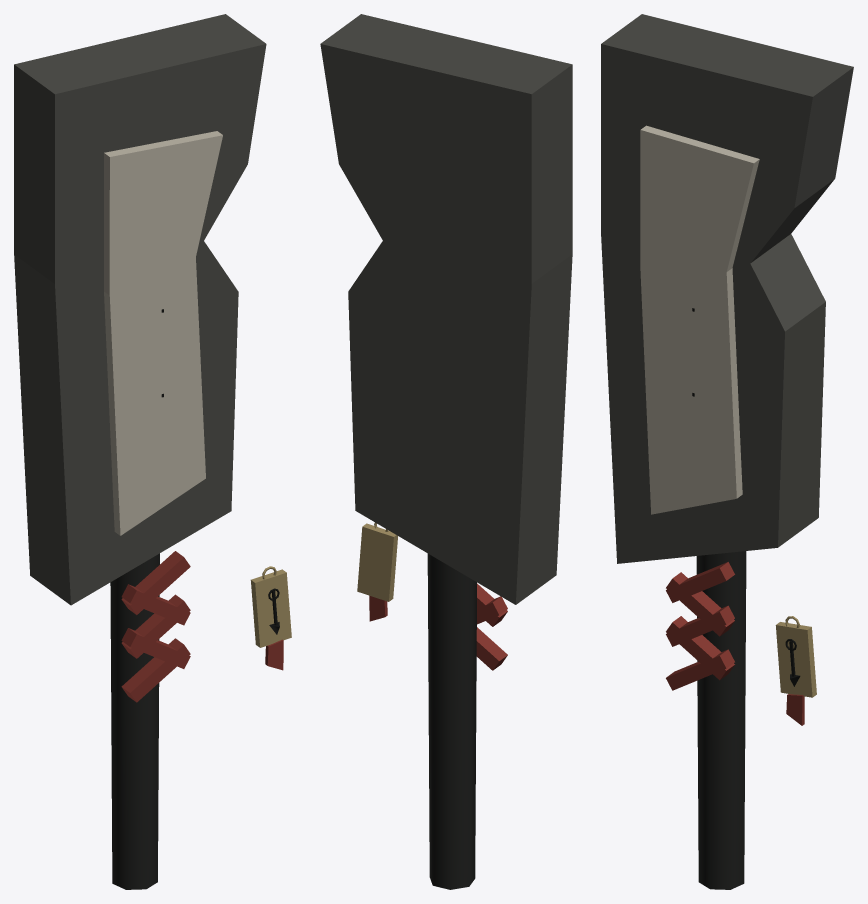
Rendered from fantasy-faceted-cleaver-glaive-v1.glb.
3 renders of one model, left to right at view 1: azimuth 30°, elevation 25°; view 2: azimuth 150°, elevation 25°; view 3: azimuth 330°, elevation 25°, orthographic.
Parts seen in each view (by area): view 1: Cleaver Glaive; view 2: Cleaver Glaive; view 3: Cleaver Glaive.
Part boxes in pixels (<box>): Cleaver Glaive: <box>14,14,291,889</box>; Cleaver Glaive: <box>320,14,572,889</box>; Cleaver Glaive: <box>601,14,853,889</box>.
Size of the model in its own units: 1.33 by 4.68 by 0.6069.
